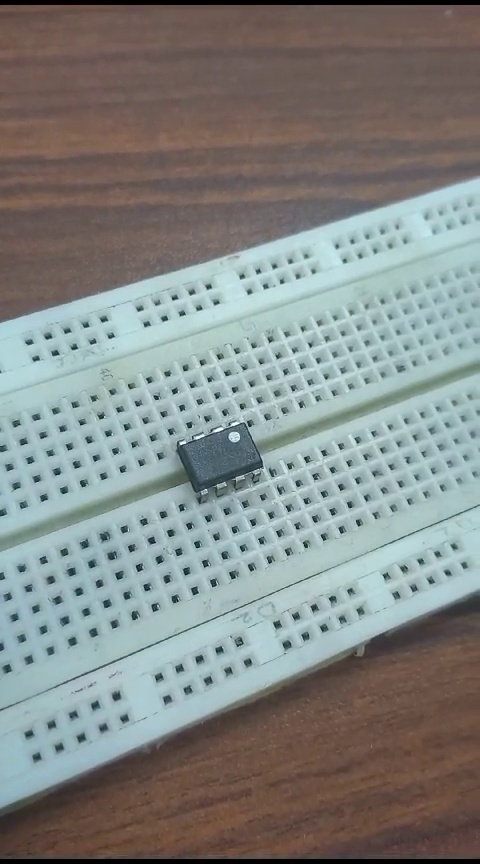IC: (160, 423, 274, 501)
